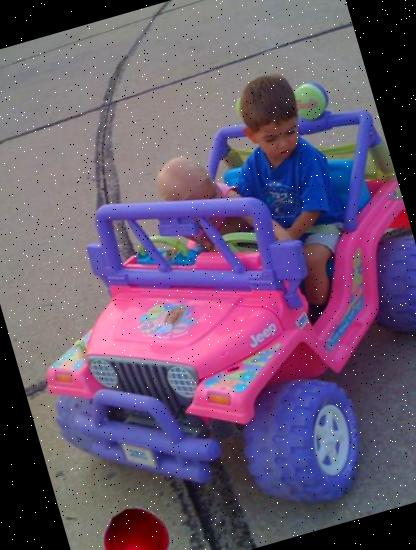Cherry: (95, 498, 178, 550)
